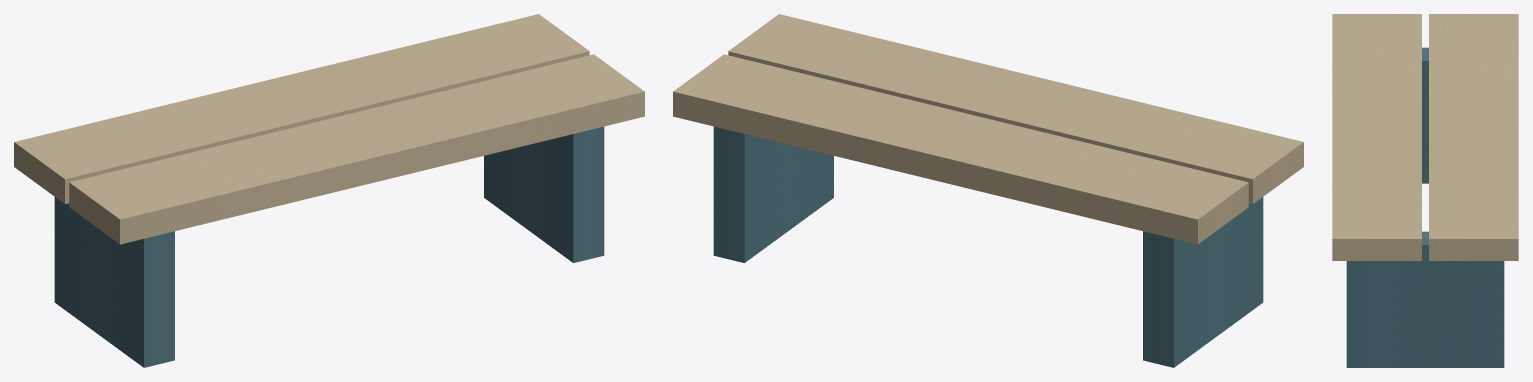
File: atlas100-sailpunk-util03.lod1.glb
The picture shows the model from 3 angles, left to right: view 1: azimuth 30°, elevation 25°; view 2: azimuth 150°, elevation 25°; view 3: azimuth 270°, elevation 25°; orthographic projection. The views are drawn at different scales.
Visible parts, largest first — view 1: atlas100-sailpunk-util03:part-004, atlas100-sailpunk-util03:part-002, atlas100-sailpunk-util03:part-000, atlas100-sailpunk-util03:part-001; view 2: atlas100-sailpunk-util03:part-002, atlas100-sailpunk-util03:part-004, atlas100-sailpunk-util03:part-000, atlas100-sailpunk-util03:part-001; view 3: atlas100-sailpunk-util03:part-002, atlas100-sailpunk-util03:part-004, atlas100-sailpunk-util03:part-001, atlas100-sailpunk-util03:part-000.
Boxes of the visible parts, x1,y1,x2,y2 form: atlas100-sailpunk-util03:part-004: (69,54,644,244); atlas100-sailpunk-util03:part-002: (14,14,589,204); atlas100-sailpunk-util03:part-000: (54,197,174,367); atlas100-sailpunk-util03:part-001: (484,126,604,262); atlas100-sailpunk-util03:part-002: (673,54,1248,244); atlas100-sailpunk-util03:part-004: (728,14,1303,204); atlas100-sailpunk-util03:part-000: (1143,197,1263,367); atlas100-sailpunk-util03:part-001: (713,126,833,262); atlas100-sailpunk-util03:part-002: (1429,14,1518,260); atlas100-sailpunk-util03:part-004: (1332,14,1421,260); atlas100-sailpunk-util03:part-001: (1346,231,1504,367); atlas100-sailpunk-util03:part-000: (1422,47,1428,183).
Bounding box in the file's own units: 2.4 × 0.7098 × 0.8408.
2 materials, 2 textured.
